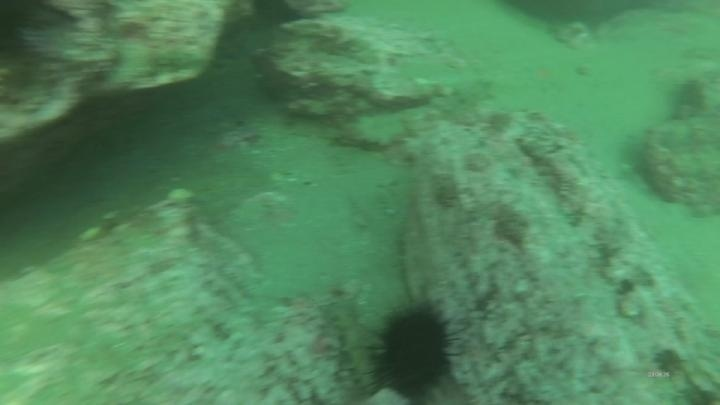echinus: (364, 295, 463, 403)
holothurian: (325, 299, 385, 401)
